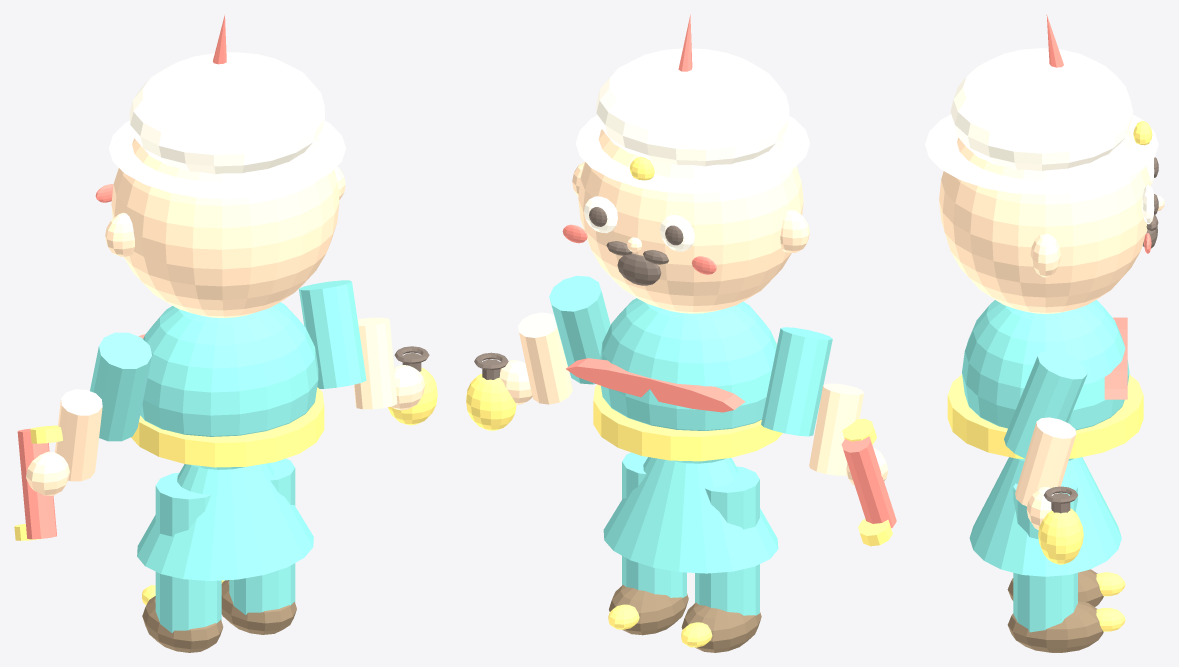
Rendered from Merchant.glb.
3 renders of one model, left to right at view 1: azimuth 30°, elevation 25°; view 2: azimuth 150°, elevation 25°; view 3: azimuth 270°, elevation 25°, orthographic.
Visible parts, largest first — view 1: Head, Body, TurbanDome, Skirt, Belt, TurbanBand, LegL, UpperArmR, UpperArmL, ForearmL, LegR, ForearmR (+7 smaller); view 2: Head, TurbanDome, Body, Skirt, Belt, UpperArmL, TurbanBand, LegL, UpperArmR, Sash, ForearmR, ForearmL (+13 smaller); view 3: Head, TurbanDome, Body, Skirt, TurbanBand, Belt, UpperArmR, LegR, ForearmR, ShoeR, PurseBody, Sash (+9 smaller).
Boxes of the visible parts, bbox=[...] form: Head: bbox=[111, 136, 339, 317]; Body: bbox=[140, 302, 318, 469]; TurbanDome: bbox=[129, 52, 324, 174]; Skirt: bbox=[137, 463, 313, 580]; Belt: bbox=[131, 387, 324, 467]; TurbanBand: bbox=[109, 120, 345, 199]; LegL: bbox=[155, 472, 221, 632]; UpperArmR: bbox=[299, 280, 366, 388]; UpperArmL: bbox=[90, 332, 151, 441]; ForearmL: bbox=[55, 389, 102, 481]; LegR: bbox=[229, 458, 295, 614]; ForearmR: bbox=[354, 317, 397, 409]; Head: bbox=[578, 129, 803, 313]; TurbanDome: bbox=[596, 48, 789, 166]; Body: bbox=[600, 298, 776, 463]; Skirt: bbox=[603, 457, 778, 573]; Belt: bbox=[593, 384, 782, 461]; UpperArmL: bbox=[761, 327, 832, 436]; TurbanBand: bbox=[575, 115, 809, 193]; LegL: bbox=[695, 466, 759, 615]; UpperArmR: bbox=[549, 275, 610, 384]; Sash: bbox=[566, 358, 745, 412]; ForearmR: bbox=[518, 312, 572, 404]; ForearmL: bbox=[809, 383, 863, 475]; Head: bbox=[939, 129, 1150, 313]; TurbanDome: bbox=[950, 48, 1133, 170]; Body: bbox=[962, 300, 1129, 461]; Skirt: bbox=[969, 457, 1121, 576]; TurbanBand: bbox=[925, 114, 1158, 194]; Belt: bbox=[947, 374, 1143, 458]; UpperArmR: bbox=[1004, 351, 1087, 458]; LegR: bbox=[1013, 483, 1077, 632]; ForearmR: bbox=[1015, 417, 1076, 506]; ShoeR: bbox=[1007, 599, 1103, 652]; PurseBody: bbox=[1038, 508, 1083, 564]; Sash: bbox=[1104, 317, 1127, 399].
Size of the model in its own units: 1.26 by 1.79 by 0.6298.
